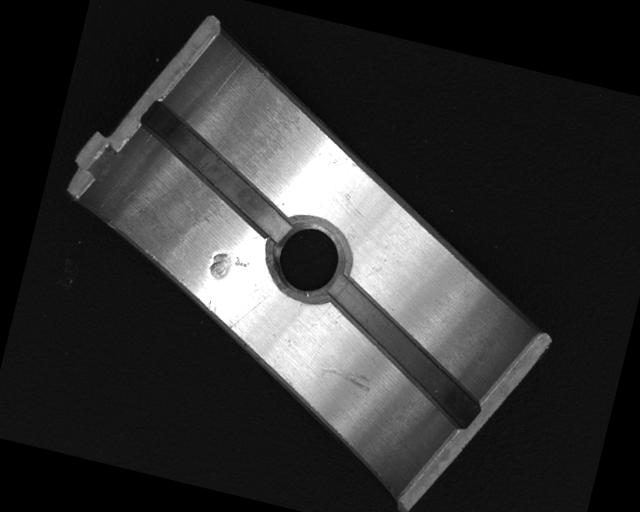bruise: (205, 249, 252, 288)
gap: (307, 274, 498, 431), (121, 100, 310, 243)
hole: (262, 210, 354, 309)
nick: (315, 360, 375, 394)
